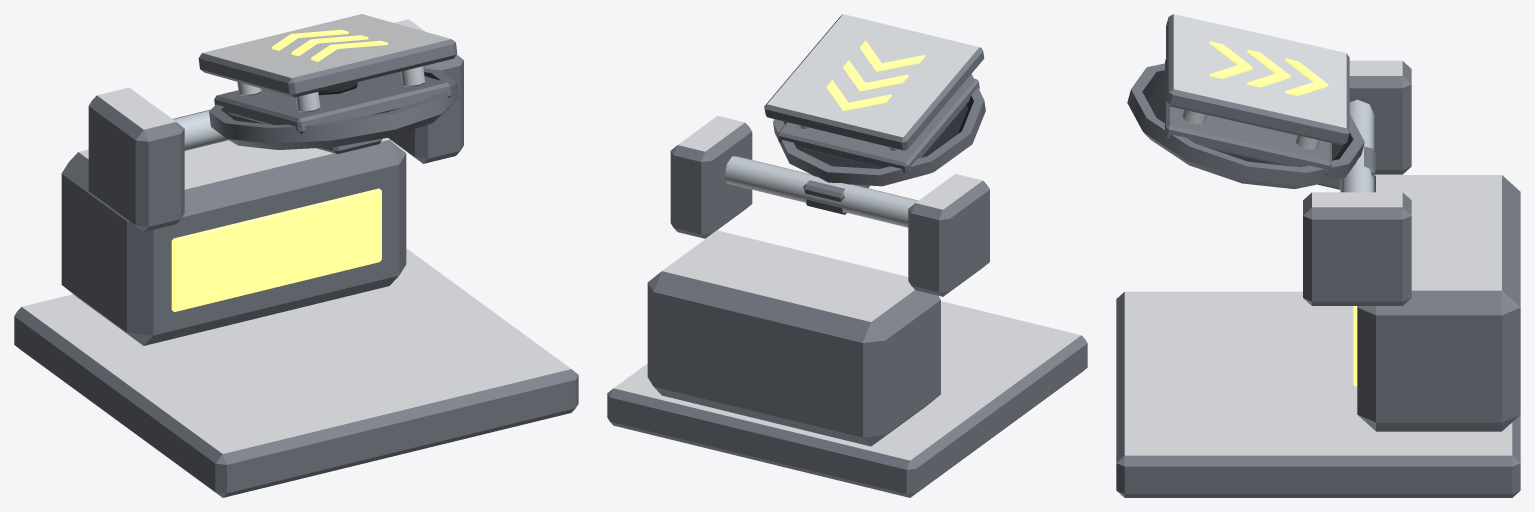
Rendered from R4X_KnockbackTrapDeployer_LOD1.fbx.
3 renders of one model, left to right at view 1: azimuth 30°, elevation 25°; view 2: azimuth 150°, elevation 25°; view 3: azimuth 270°, elevation 25°, orthographic. The views are drawn at different scales.
Parts seen in each view (by area): view 1: R4X_KnockbackTrapDeployer_LOD1; view 2: R4X_KnockbackTrapDeployer_LOD1; view 3: R4X_KnockbackTrapDeployer_LOD1.
Part boxes in pixels (box(x1,y1,x2,y2)): R4X_KnockbackTrapDeployer_LOD1: box(14, 14, 578, 497); R4X_KnockbackTrapDeployer_LOD1: box(607, 14, 1087, 497); R4X_KnockbackTrapDeployer_LOD1: box(1116, 14, 1520, 497).
Size of the model in its own units: 0.52 by 0.5171 by 0.52.
